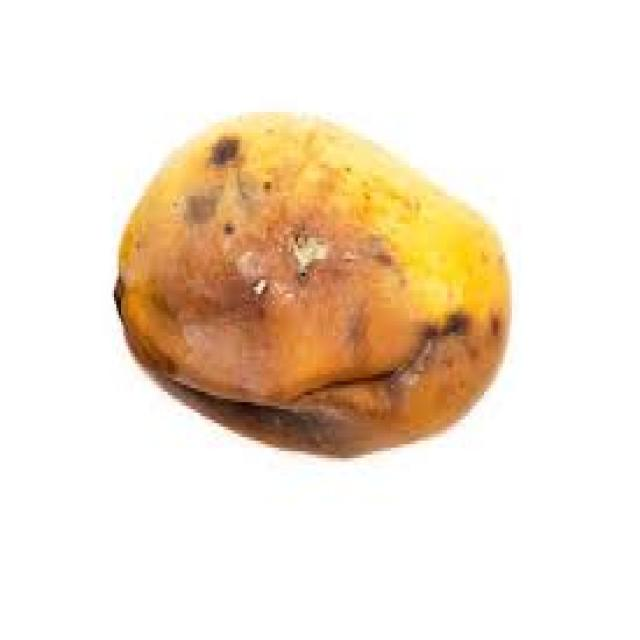Mango: (116, 117, 501, 470)
